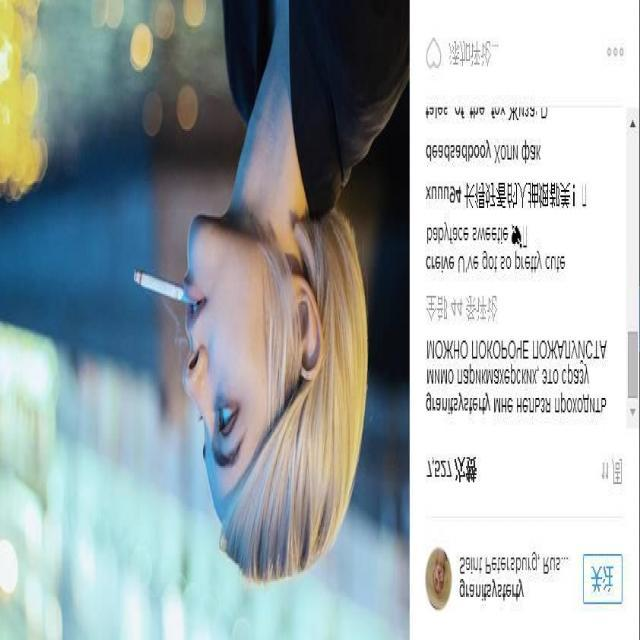cigarette: (126, 270, 204, 326)
